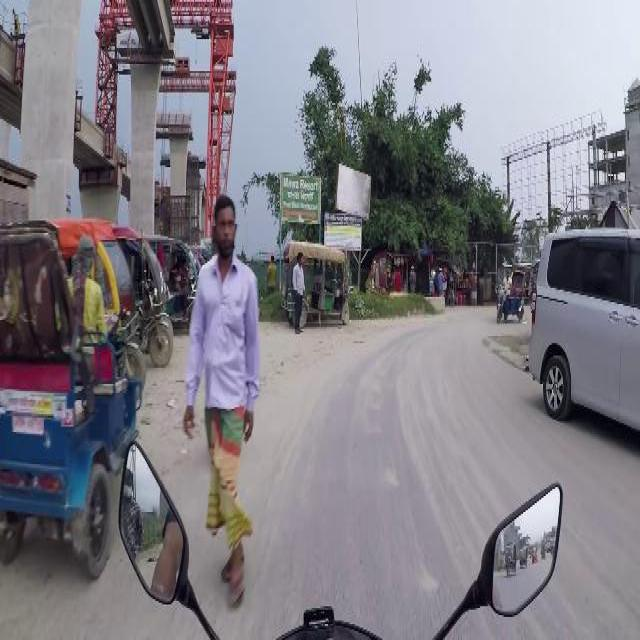auto rickshaw: (62, 212, 146, 392), (122, 221, 174, 369), (283, 240, 351, 325), (150, 232, 198, 326)
minivan: (533, 227, 639, 431)
rickshaw: (3, 220, 127, 580), (494, 266, 526, 321)
